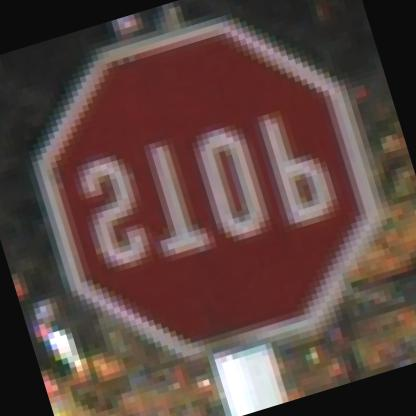stop: (0, 0, 415, 398)
